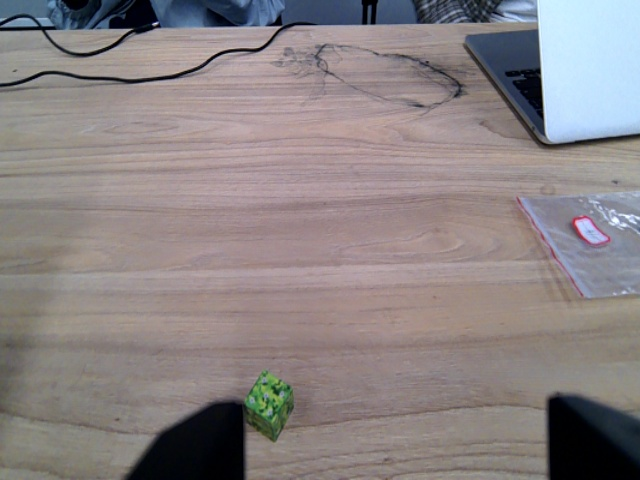grass: (241, 372, 296, 443)
